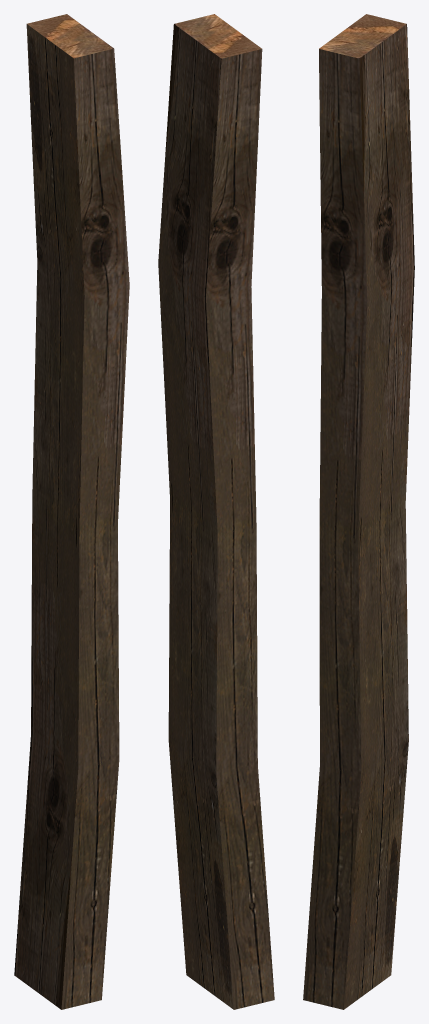
The model's file is plank_2.fbx.
3 views of the same model, side by side, from view 1: azimuth 30°, elevation 25°; view 2: azimuth 210°, elevation 25°; view 3: azimuth 330°, elevation 25° (orthographic).
Parts seen in each view (by area): view 1: Box056; view 2: Box056; view 3: Box056.
Boxes of the visible parts, bbox=[...] form: Box056: bbox=[14, 14, 129, 1009]; Box056: bbox=[158, 14, 274, 1009]; Box056: bbox=[303, 14, 414, 1009].
Bounding box in the file's own units: 27.11 × 372 × 36.32.
